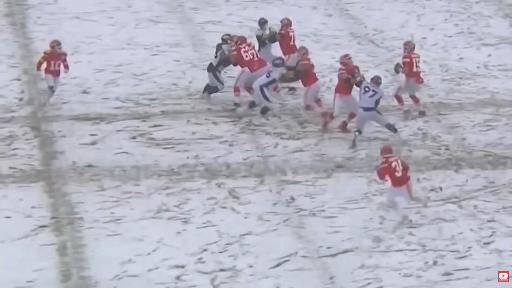Helmet: (339, 54, 353, 65), (403, 41, 415, 53), (370, 75, 382, 86), (272, 57, 285, 67), (258, 17, 268, 30), (381, 146, 393, 156), (50, 40, 61, 50), (298, 46, 308, 57), (280, 18, 291, 27), (221, 34, 231, 43)
Jersey: (377, 155, 409, 187), (359, 80, 384, 110), (207, 43, 232, 72), (335, 66, 359, 95), (298, 57, 318, 87), (45, 50, 68, 76), (247, 43, 267, 71), (279, 28, 297, 57), (402, 53, 421, 79), (234, 45, 255, 66), (265, 67, 286, 86), (256, 28, 272, 51)
Player: (351, 75, 400, 148), (323, 54, 360, 133), (377, 146, 417, 214), (294, 46, 327, 117), (395, 41, 425, 116), (232, 36, 269, 94), (249, 57, 286, 115), (203, 34, 236, 98), (37, 40, 69, 96), (277, 18, 298, 70), (256, 18, 276, 63), (234, 63, 249, 108)
